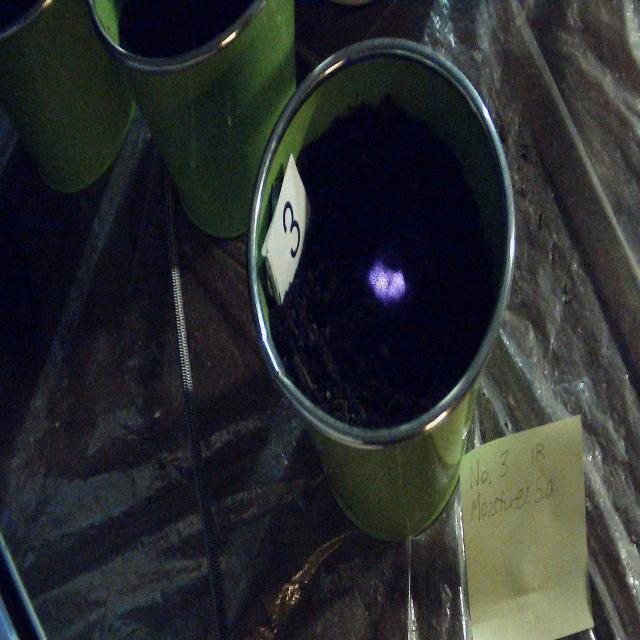soil-moisture-5.0: (369, 262, 406, 302)
